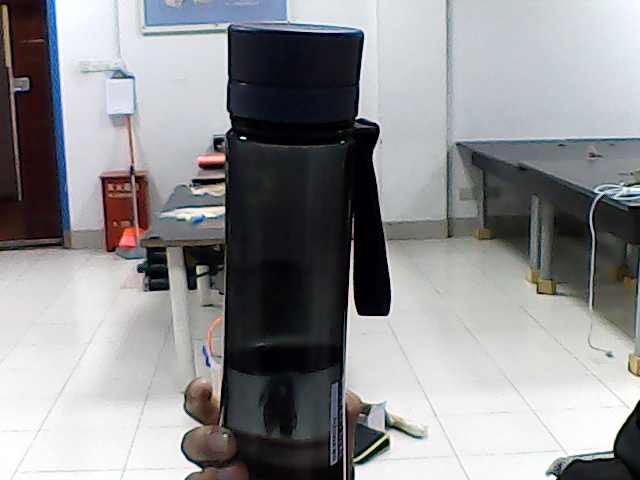cup: (244, 30, 343, 468)
